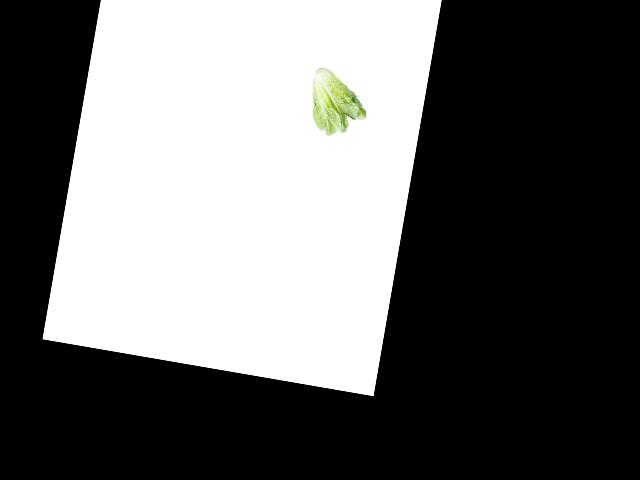lettuce: (299, 61, 376, 141)
